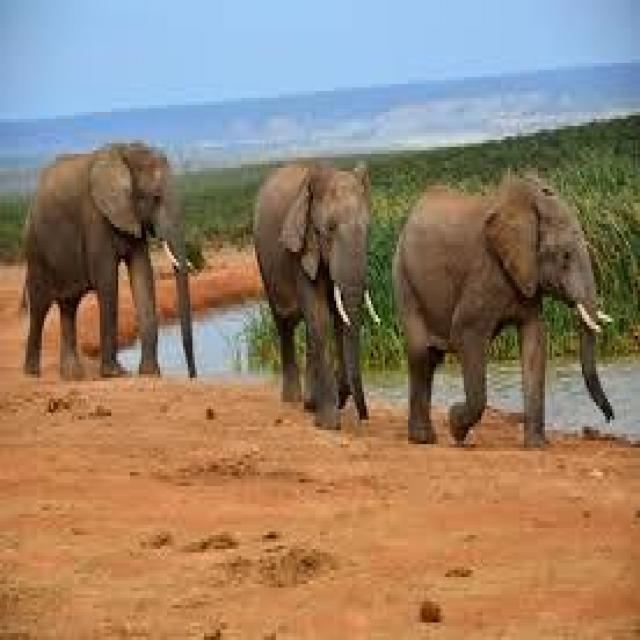Elephant: (389, 171, 603, 448), (14, 133, 206, 378), (246, 150, 380, 427)
